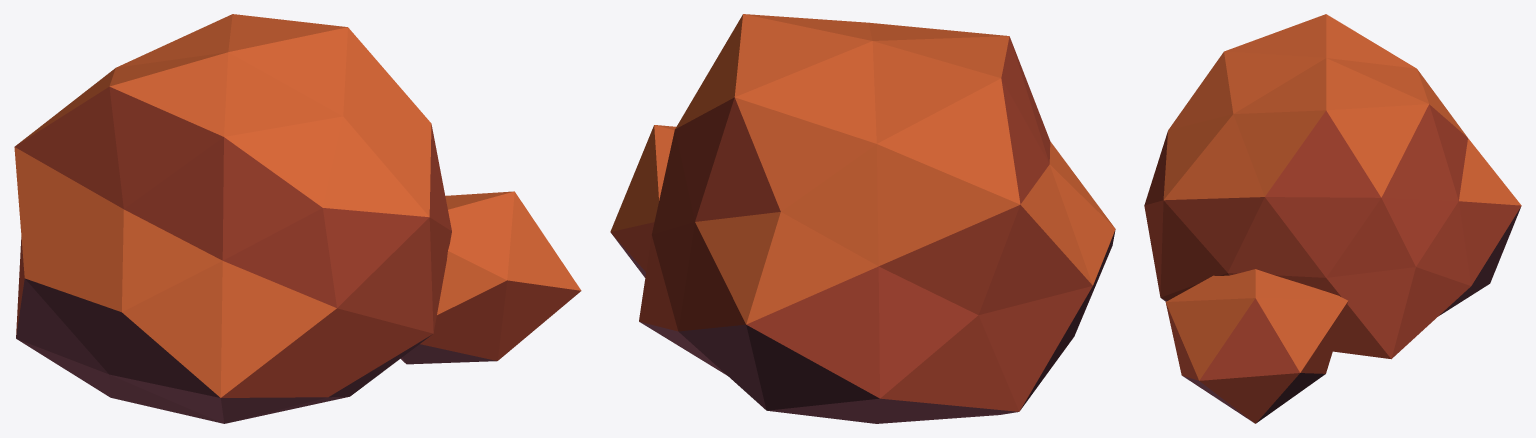
Rendered from Rock_Boulder_C.fbx.
3 renders of one model, left to right at view 1: azimuth 30°, elevation 25°; view 2: azimuth 150°, elevation 25°; view 3: azimuth 270°, elevation 25°, orthographic. The views are drawn at different scales.
Visible parts, largest first — view 1: Rock_Boulder_C; view 2: Rock_Boulder_C; view 3: Rock_Boulder_C.
Part boxes in pixels (left/top/right/bottom): Rock_Boulder_C: left=14, top=14, right=581, bottom=423; Rock_Boulder_C: left=610, top=14, right=1115, bottom=423; Rock_Boulder_C: left=1144, top=14, right=1521, bottom=423.
Bounding box in the file's own units: 3.29 × 2.07 × 2.67.
